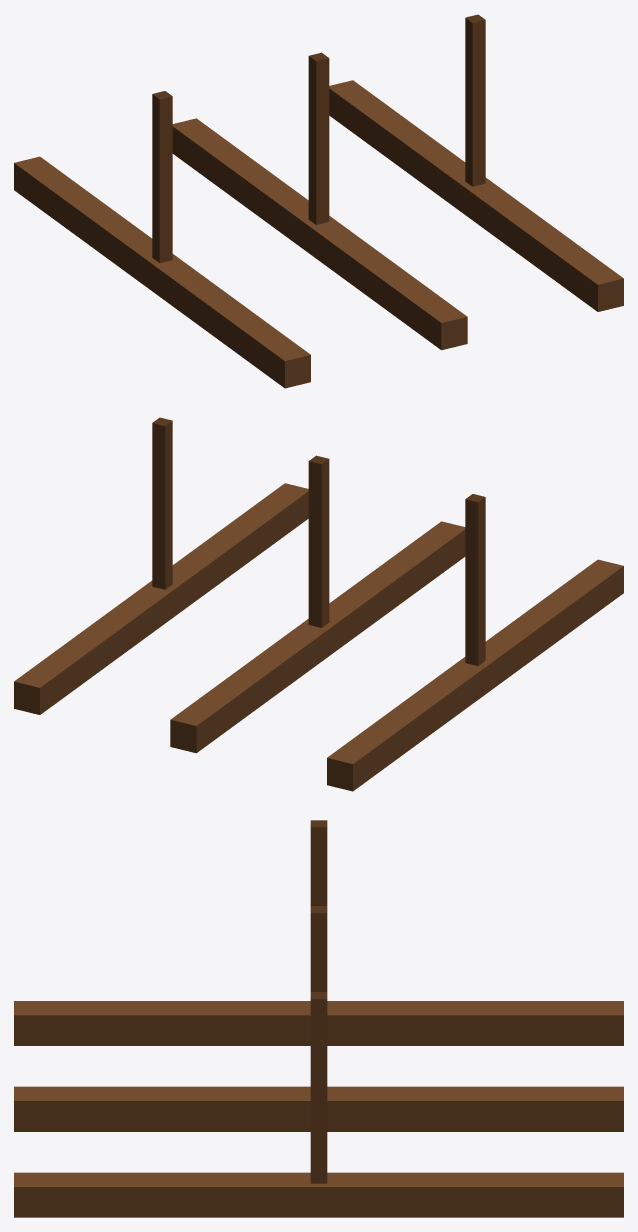
The model's file is Hut_Beams.fbx.
The picture shows the model from 3 angles, top to bottom: view 1: azimuth 30°, elevation 25°; view 2: azimuth 150°, elevation 25°; view 3: azimuth 270°, elevation 25°; orthographic projection. The views are drawn at different scales.
Visible parts, largest first — view 1: Hut_Beams; view 2: Hut_Beams; view 3: Hut_Beams.
Boxes of the visible parts, x1,y1,x2,y2 form: Hut_Beams: (14,14,623,388); Hut_Beams: (14,417,623,791); Hut_Beams: (14,820,623,1217).
Bounding box in the file's own units: 78 × 42 × 108.
